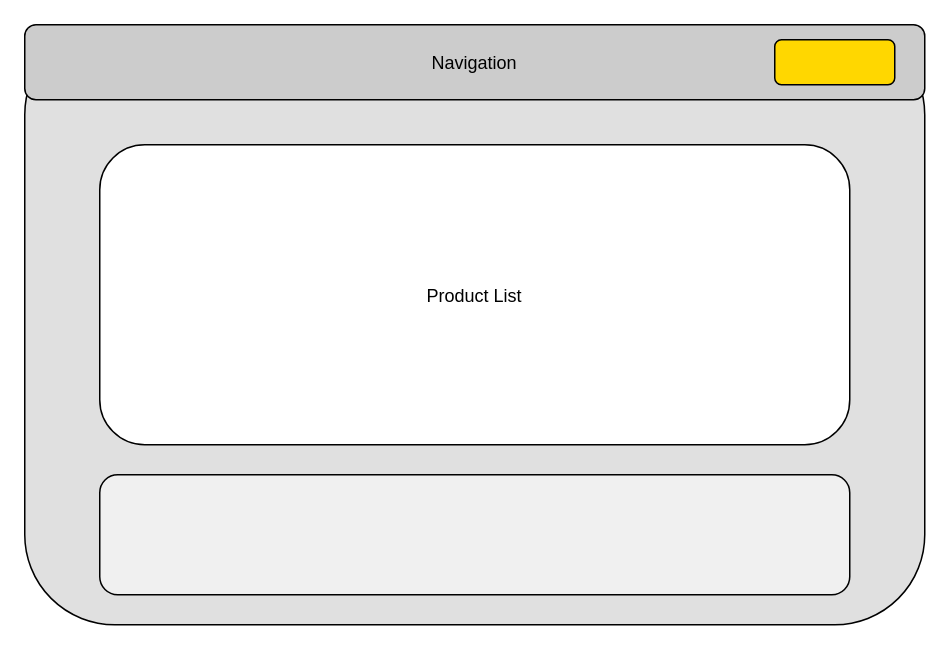
This 950x650 diagram has some shape labels left out. Each missing label, with the centre of its shape:
Cart Button: the point at 834,61
Checkout: the point at 474,534
